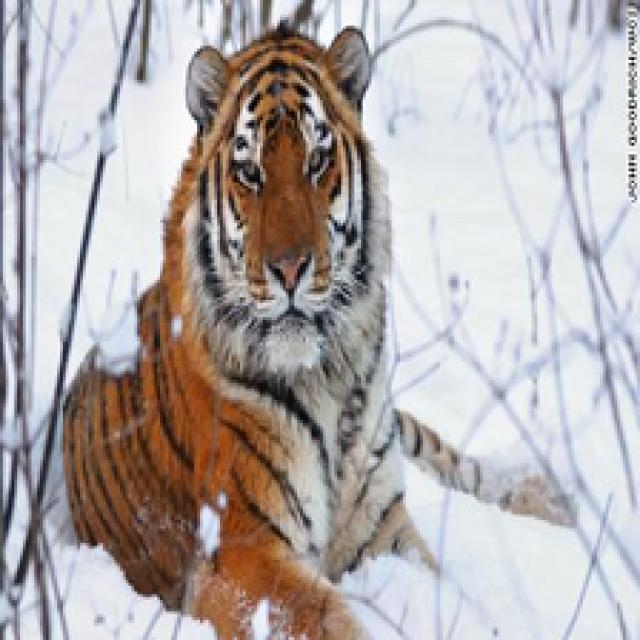tiger: (52, 0, 522, 640)
